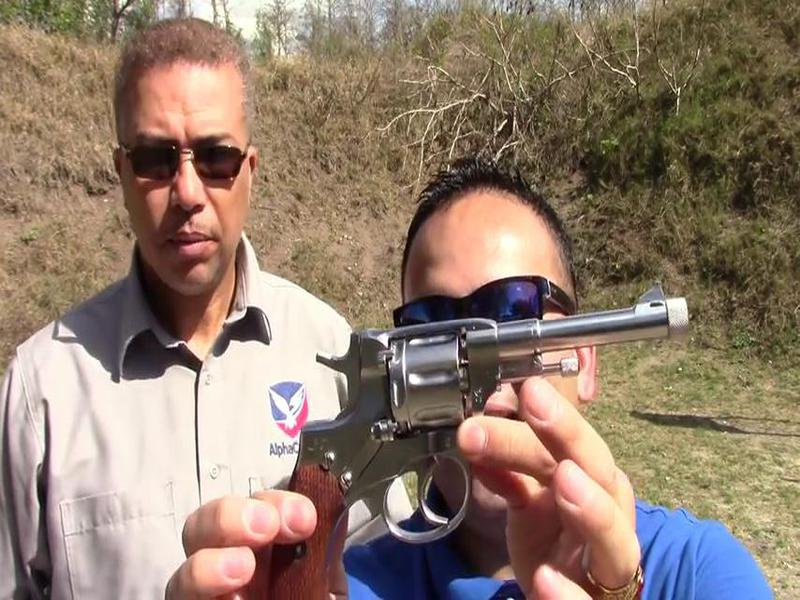Revolver: (283, 298, 698, 514)
